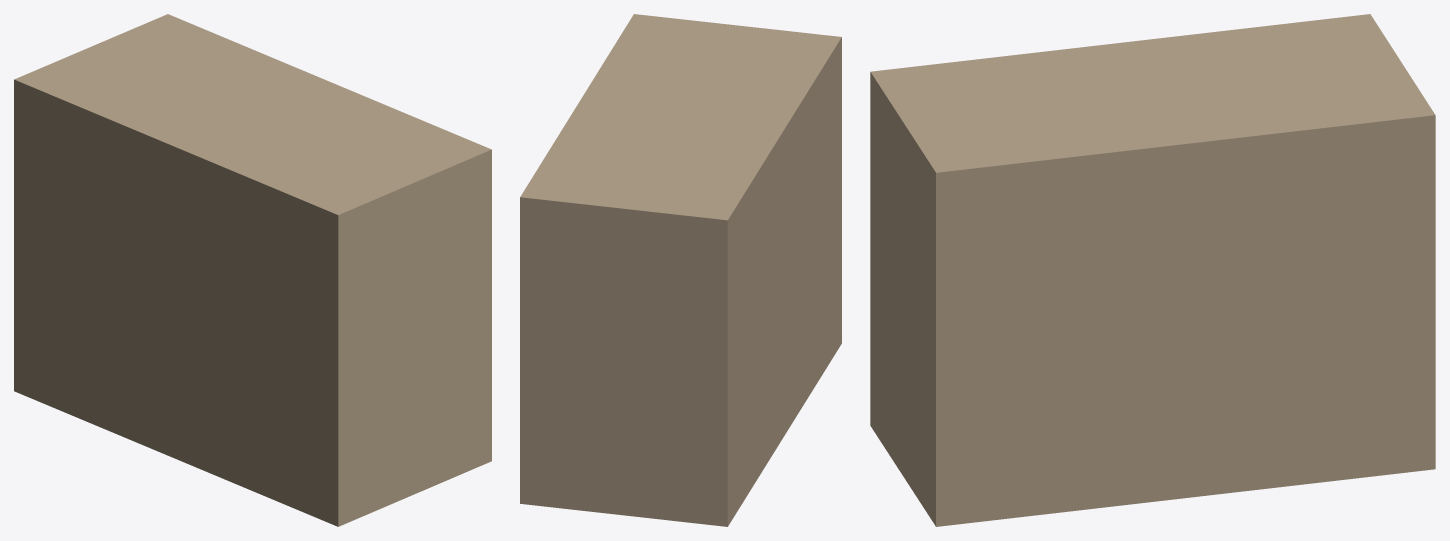
File: bld_101562382.dae
3 renders of one model, left to right at view 1: azimuth 30°, elevation 25°; view 2: azimuth 150°, elevation 25°; view 3: azimuth 270°, elevation 25°, orthographic. The views are drawn at different scales.
Parts seen in each view (by area): view 1: bld_101562382; view 2: bld_101562382; view 3: bld_101562382.
Boxes of the visible parts, x1,y1,x2,y2 form: bld_101562382: [14, 14, 491, 526]; bld_101562382: [520, 14, 841, 526]; bld_101562382: [870, 14, 1435, 526].
Bounding box in the file's own units: 7.7 × 11.57 × 8.
